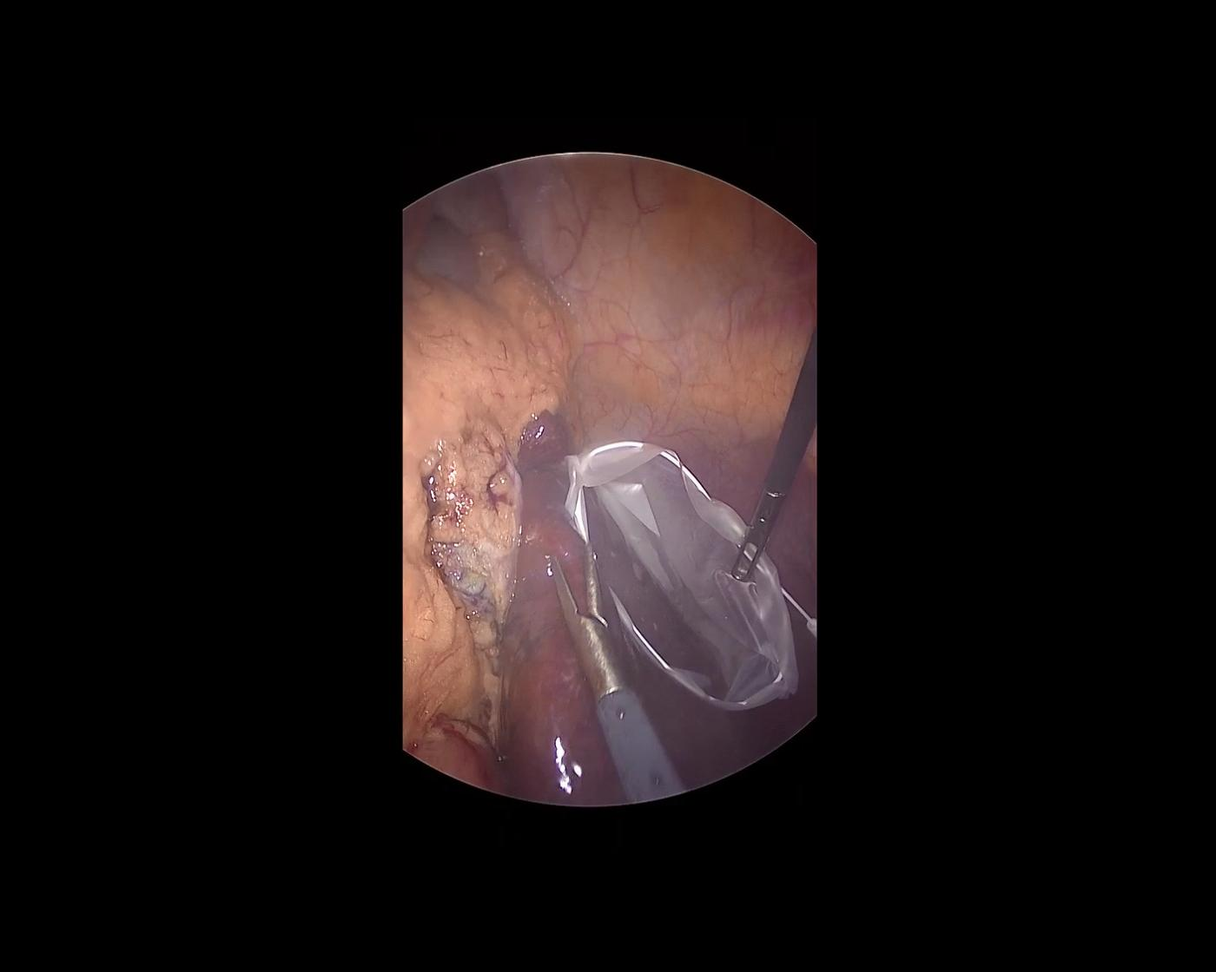Bag: (523, 395, 843, 753)
Forceps: (533, 540, 684, 812), (714, 330, 848, 585)
Gallbladder: (415, 423, 521, 673)
Liver: (449, 410, 622, 821)
